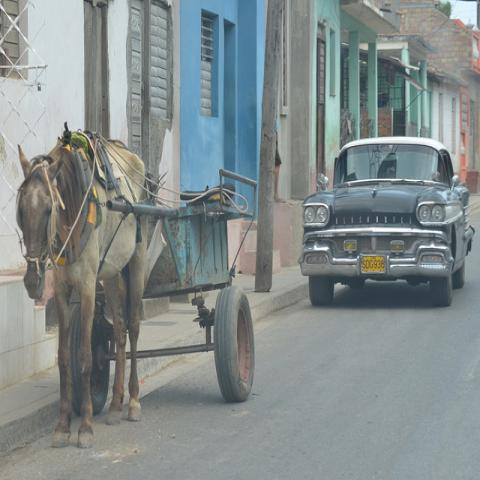car: (298, 138, 475, 306)
